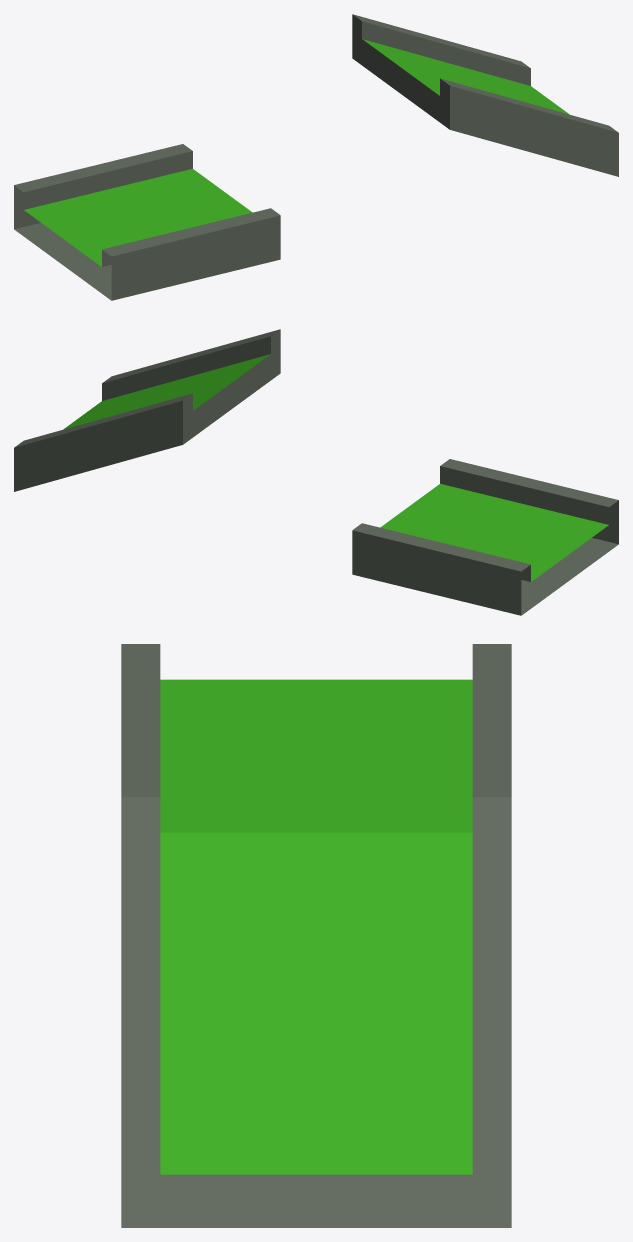
File: RampJump.fbx
The picture shows the model from 3 angles, top to bottom: view 1: azimuth 30°, elevation 25°; view 2: azimuth 150°, elevation 25°; view 3: azimuth 270°, elevation 25°; orthographic projection. The views are drawn at different scales.
Visible parts, largest first — view 1: RampTall.002; view 2: RampTall.002; view 3: RampTall.002.
Part boxes in pixels (x1,y1,x2,y2): RampTall.002: (14,14,618,300); RampTall.002: (14,329,618,615); RampTall.002: (121,644,511,1227).
Size of the model in its own units: 600 by 150 by 200.
